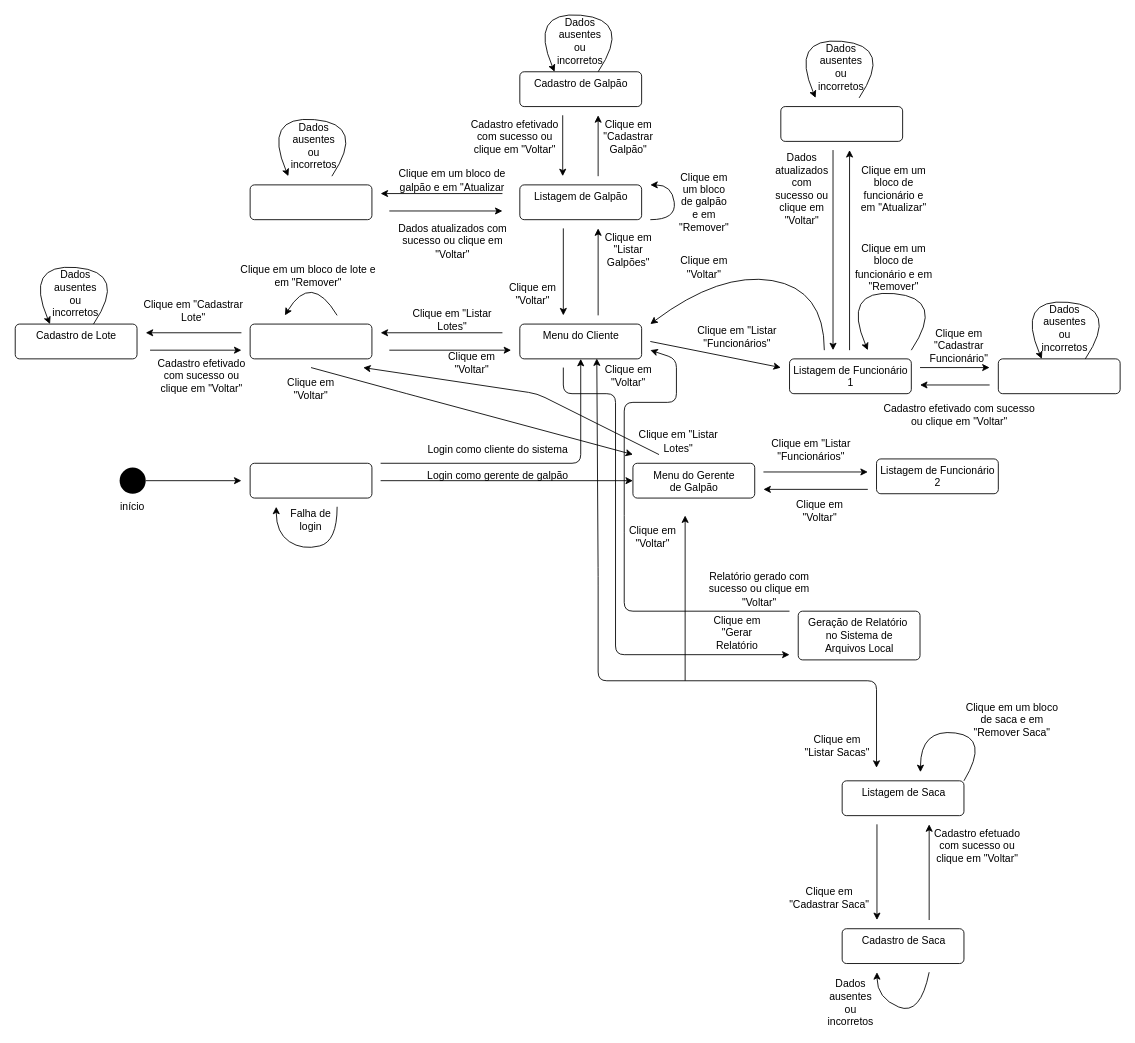
The diagram is 1135 pixels wide and 1043 high, and some of its shapes have lost their labels. Here are the shapes that lost their labels. From the top down, the centre of each, then its label:
(x=841, y=123): Atualização de Dados de Funcionário
(x=310, y=202): Atualizar Dados de Galpão
(x=310, y=341): Listagem de Lote
(x=1058, y=376): Cadastro de Funcionário
(x=310, y=480): Espera por Login
